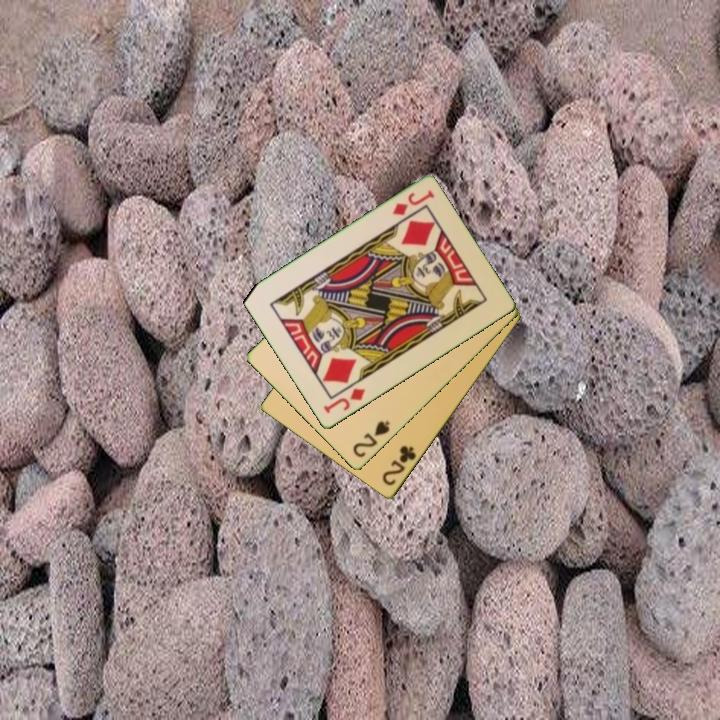2c: (378, 442, 419, 489)
2s: (349, 417, 393, 461)
Jd: (319, 385, 368, 417), (388, 187, 437, 219)
